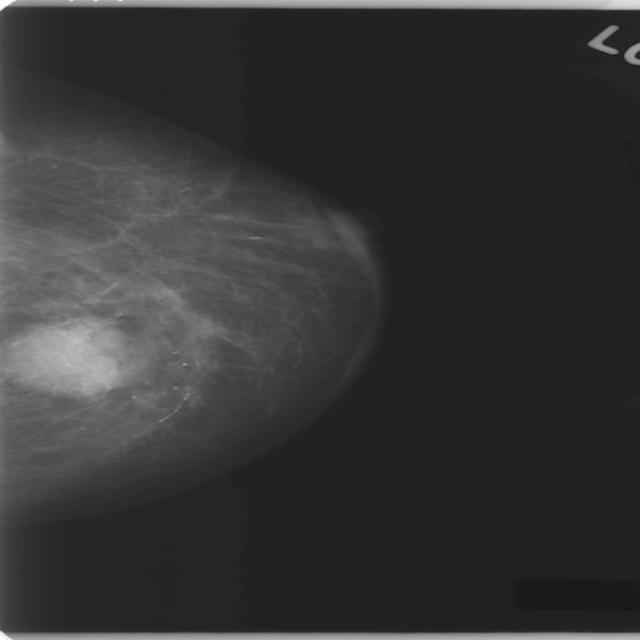tumour: (6, 318, 124, 396)
